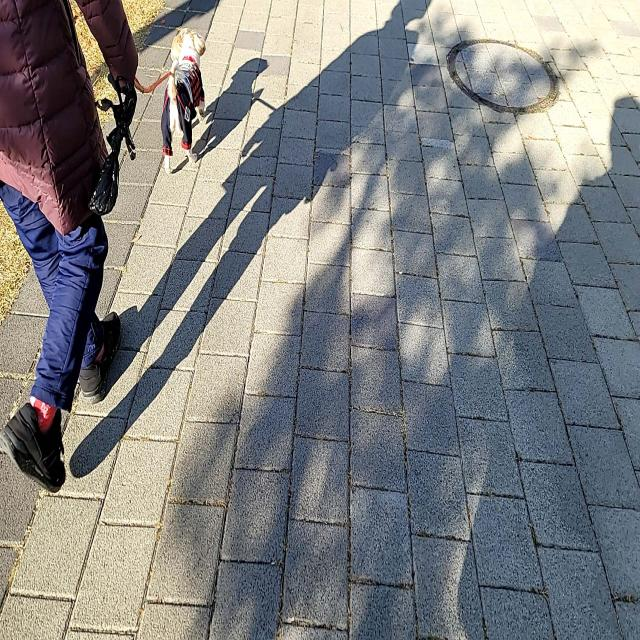Leashed_Dog: (38, 28, 207, 174)
